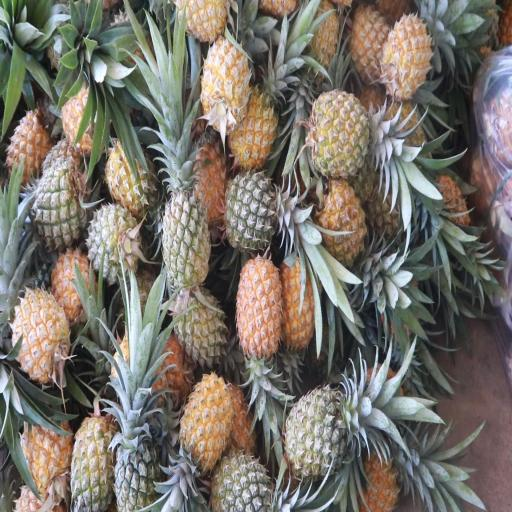------------------------------: (158, 164, 210, 291), (308, 87, 382, 175), (168, 292, 225, 375), (45, 252, 98, 333), (104, 137, 159, 213), (112, 427, 160, 512), (210, 451, 276, 512), (349, 3, 395, 83), (0, 108, 50, 180)
Pineapple - v8 v1: (175, 375, 235, 478), (12, 286, 69, 387), (236, 256, 285, 366), (279, 252, 326, 364), (385, 8, 440, 95), (20, 416, 74, 503), (199, 32, 248, 126), (316, 178, 369, 262), (70, 422, 118, 512), (230, 83, 279, 167), (184, 127, 226, 225)
